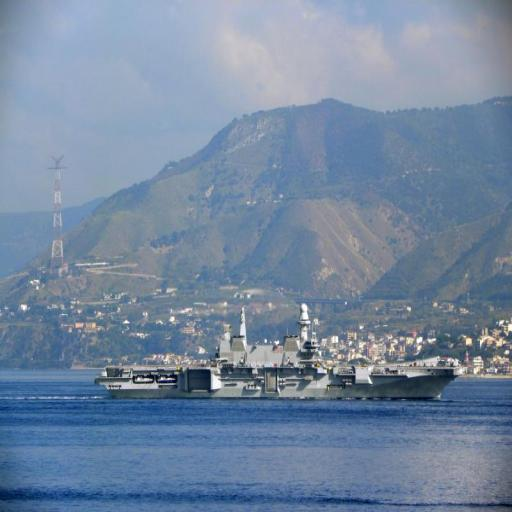Portanaves: (95, 295, 469, 404)
